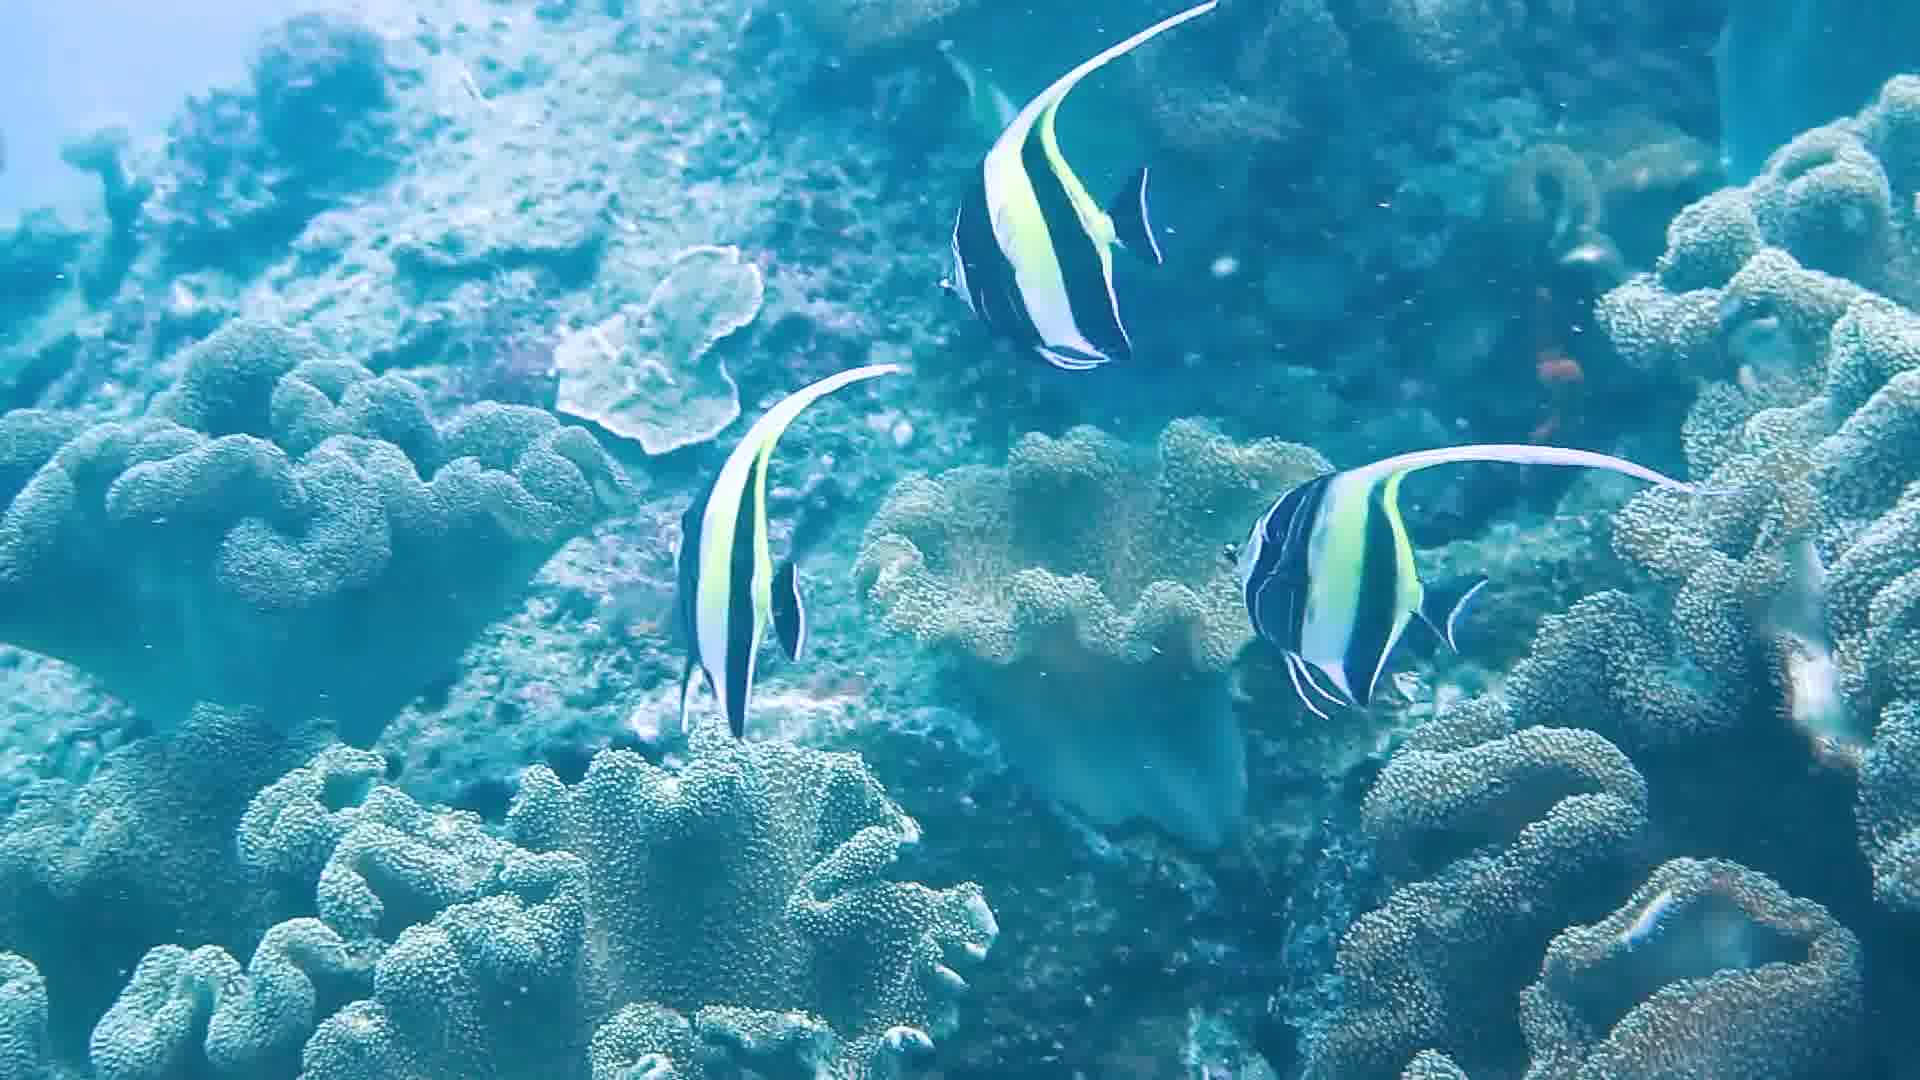Zanclus cornutus: (935, 82, 1168, 429), (611, 382, 843, 731), (1237, 407, 1469, 756)
